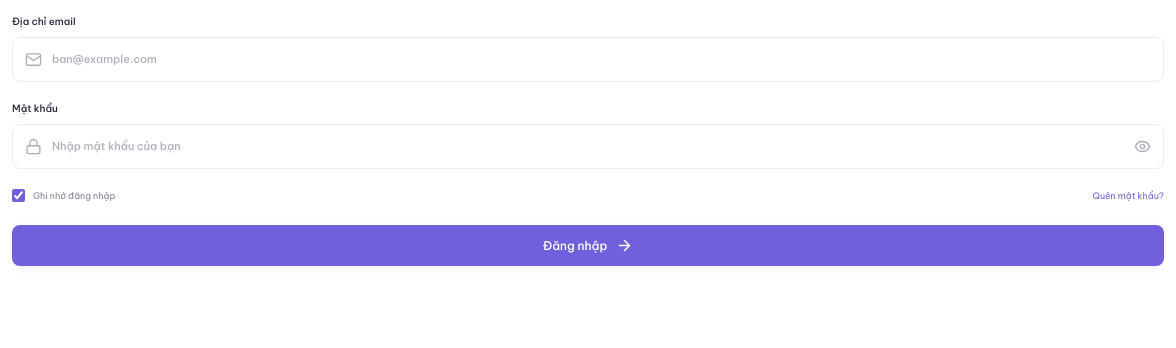
Test: Authentication form validation and failures › shows server failure and restores submit state
Type "an@example.com" into the field labelled "Địa chỉ email".
click(602, 60); type("an@example.com")  # box [52, 38, 1151, 81]
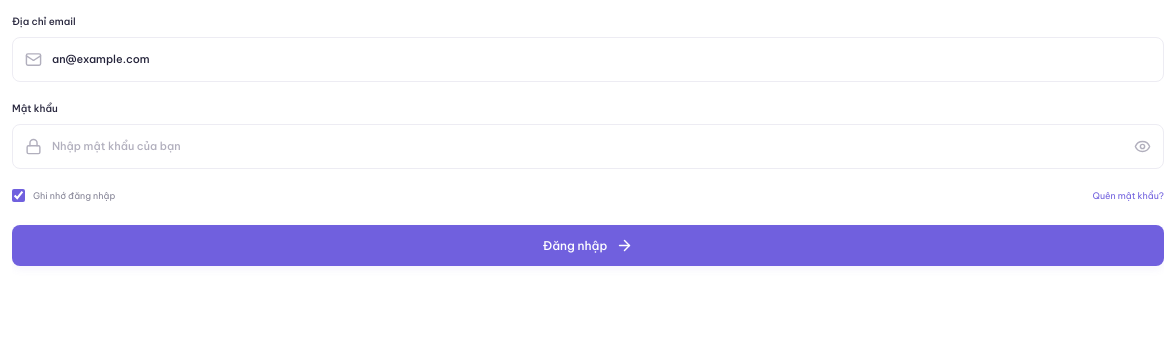
Type "wrong" into the password field labelled "Mật khẩu".
click(588, 147); type("wrong")  # box [52, 125, 1124, 168]
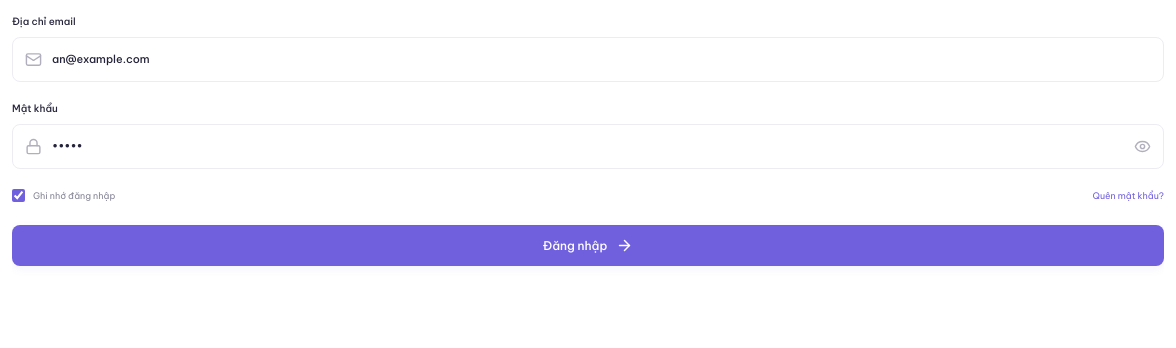
Click the button "Đăng nhập".
click(588, 246)  # box [12, 225, 1164, 266]
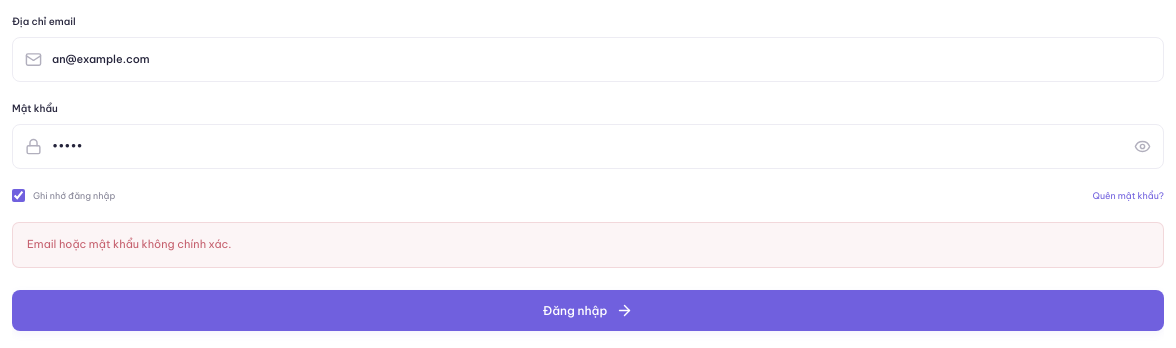
expect the button "Đăng nhập" is enabled: met, box [12, 290, 1164, 331]
expect the message reads "Email hoặc mật khẩu không chính xác.": met, box [27, 237, 232, 251]
